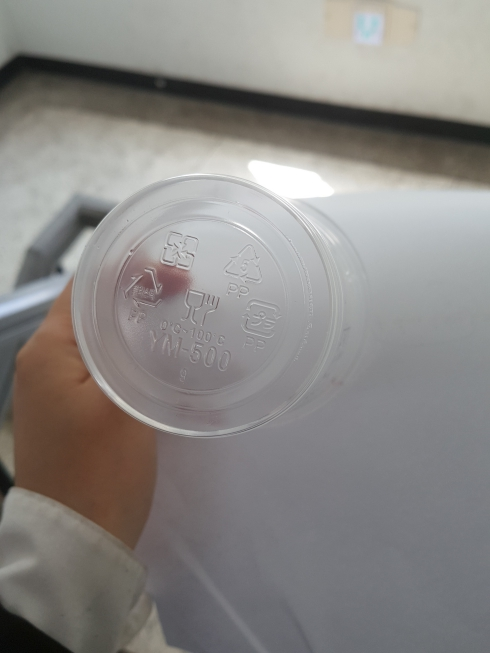recycle: (222, 242, 265, 300)
